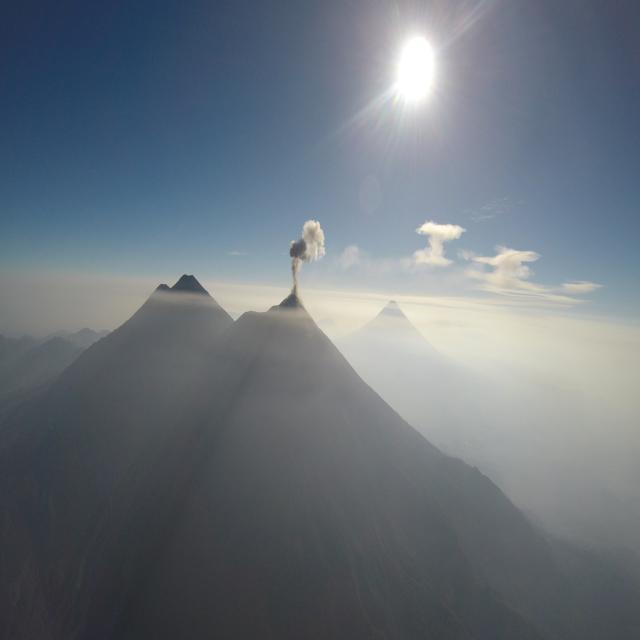Plume: (284, 212, 326, 292)
Summit: (224, 296, 329, 342)
